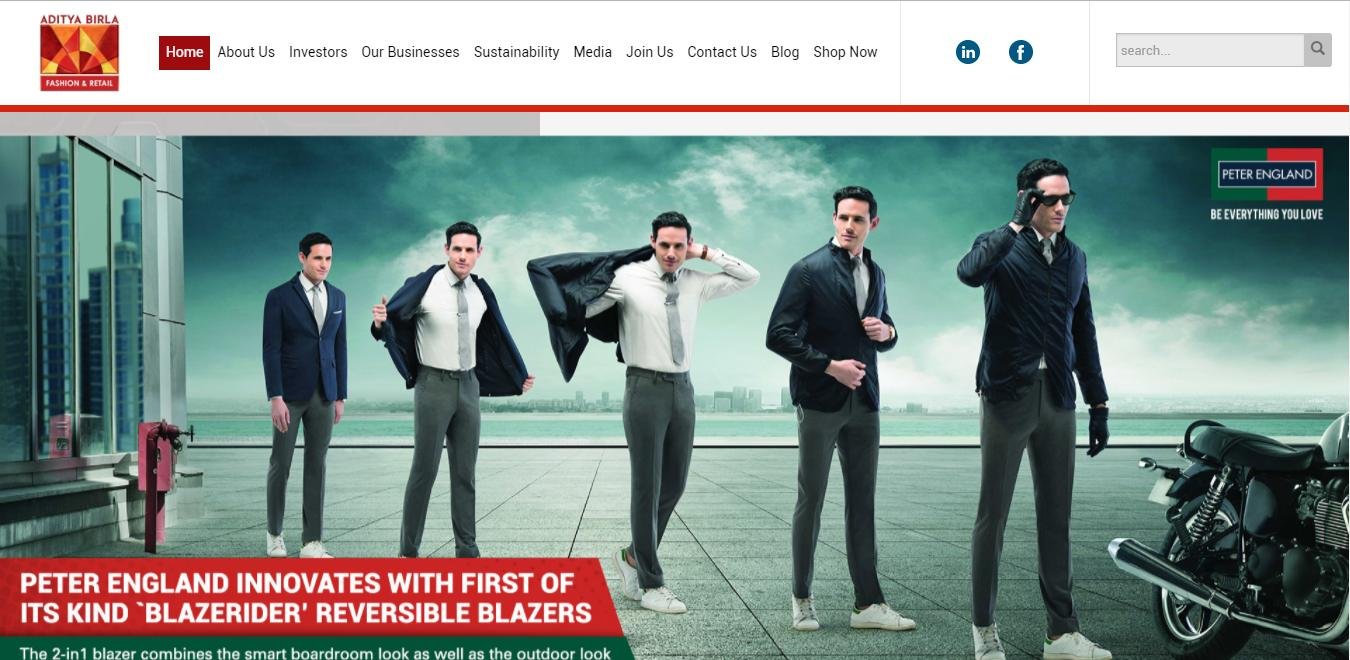button: (1001, 29, 1064, 80), (946, 31, 989, 75), (1302, 18, 1335, 75)
textbox: (1102, 30, 1308, 67)
